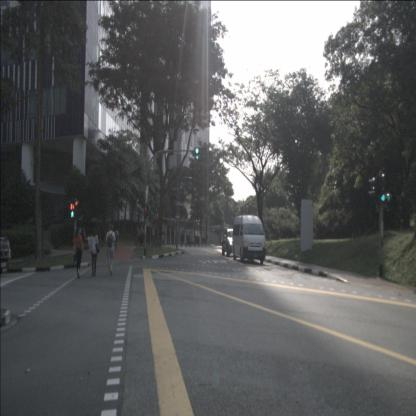human-pedestrian-adult: (72, 227, 84, 279), (88, 228, 100, 276), (105, 224, 116, 276), (78, 223, 86, 251), (114, 227, 119, 251), (134, 224, 139, 246), (140, 225, 144, 245), (219, 236, 221, 245)
vehicle-car: (233, 214, 266, 265), (222, 228, 242, 257)
